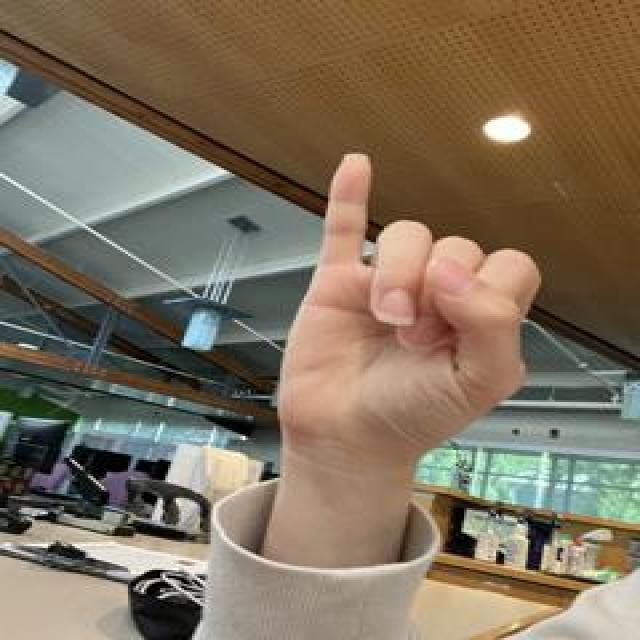I: (269, 146, 547, 458)
